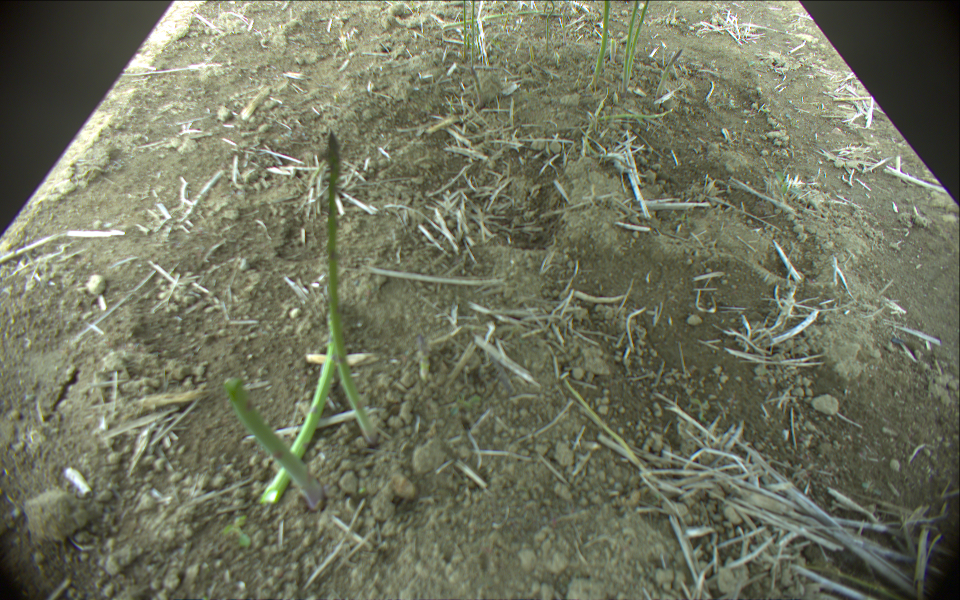aspa: (320, 125, 381, 447), (262, 313, 344, 505), (223, 378, 326, 503), (442, 8, 565, 29), (589, 1, 610, 86), (627, 1, 649, 82), (621, 1, 639, 87), (656, 44, 683, 98), (600, 108, 672, 121), (416, 334, 431, 379), (469, 1, 476, 66), (462, 1, 468, 62)
